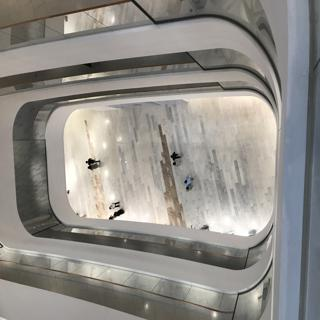person: (165, 148, 188, 168), (107, 199, 129, 210), (83, 155, 104, 166)
